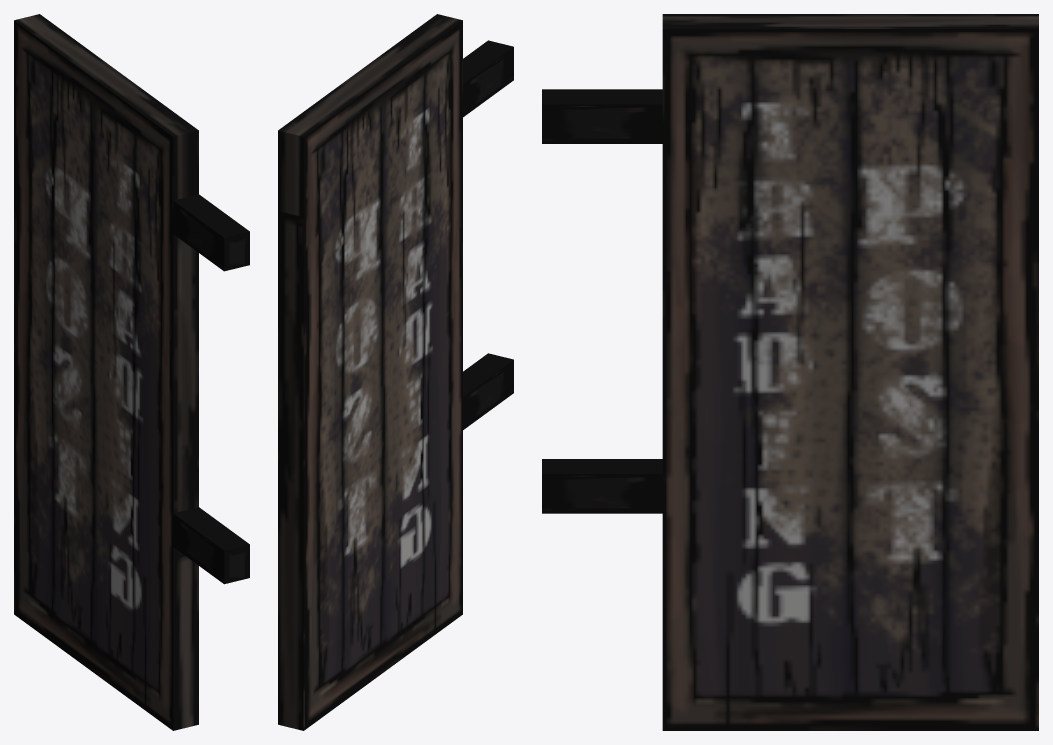
File: Sign_GeneralStore_Side.fbx
3 renders of one model, left to right at view 1: azimuth 30°, elevation 25°; view 2: azimuth 150°, elevation 25°; view 3: azimuth 270°, elevation 25°, orthographic. The views are drawn at different scales.
Parts seen in each view (by area): view 1: GeneralStoreSideHanging; view 2: GeneralStoreSideHanging; view 3: GeneralStoreSideHanging.
Part boxes in pixels (<box>): GeneralStoreSideHanging: <box>14,14,249,730</box>; GeneralStoreSideHanging: <box>278,14,513,730</box>; GeneralStoreSideHanging: <box>542,14,1038,730</box>.
Size of the model in its own units: 0.3331 by 7.34 by 4.7.
